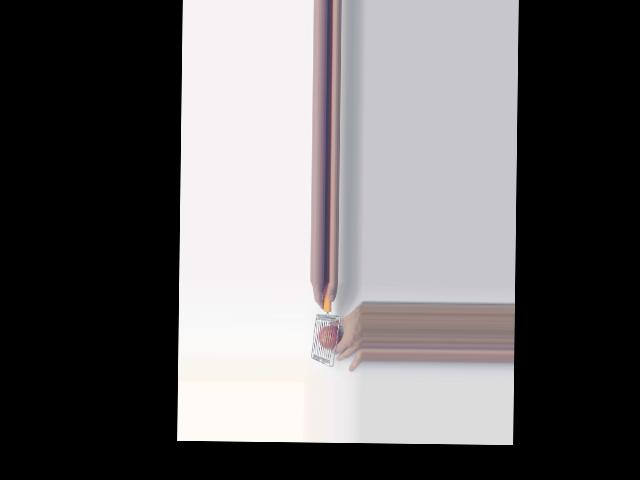tomato: (318, 324, 341, 349)
